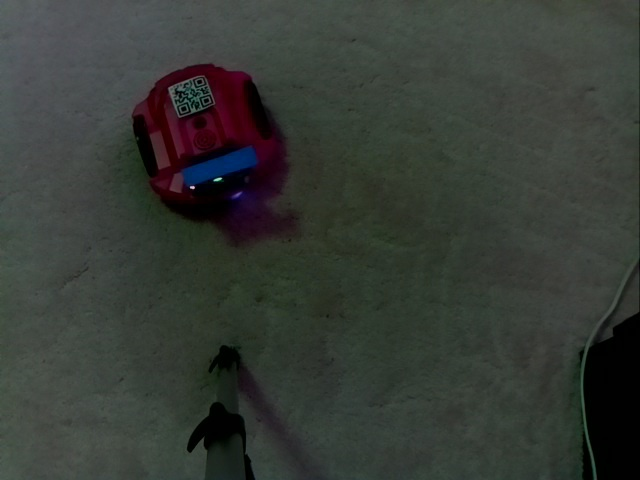chassis: (122, 57, 287, 210)
qr: (167, 74, 214, 117)
